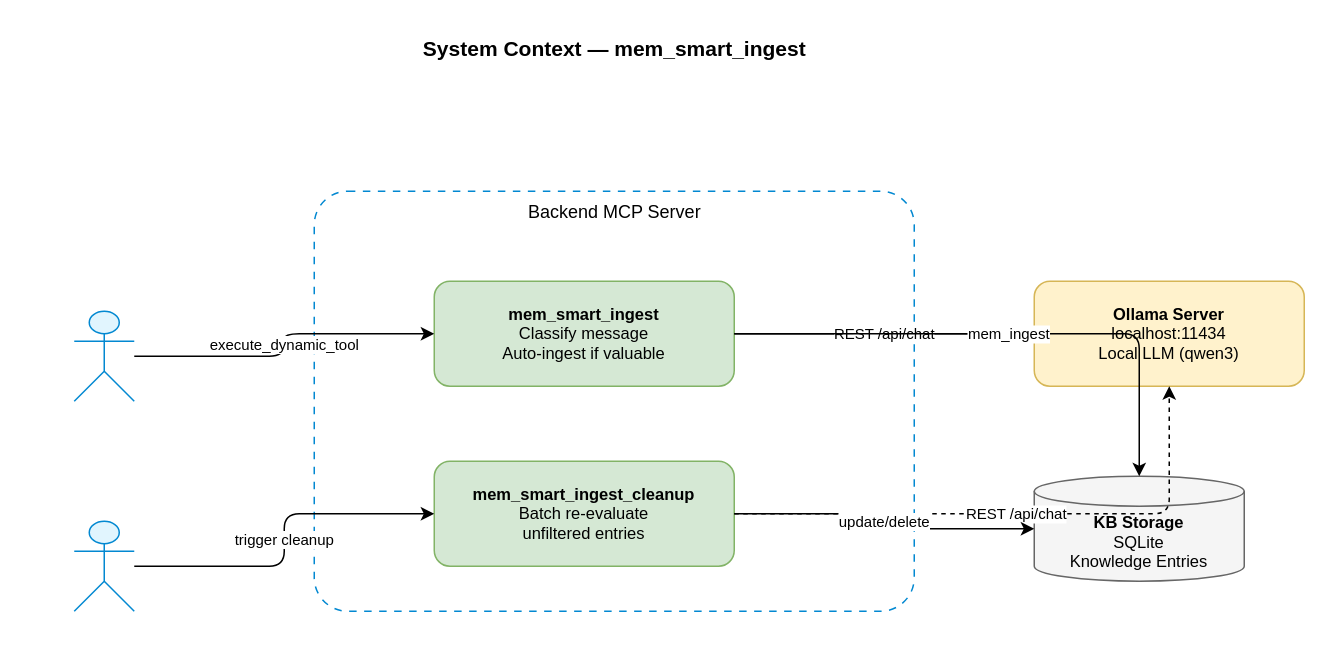
Image size: 1331x668. Some labels were removed from this diagram. The centre of each missing label's shape, as x and y in pixels:
Admin/Developer: the point at 103,565
Hook stream-user-prompt: the point at 103,355
